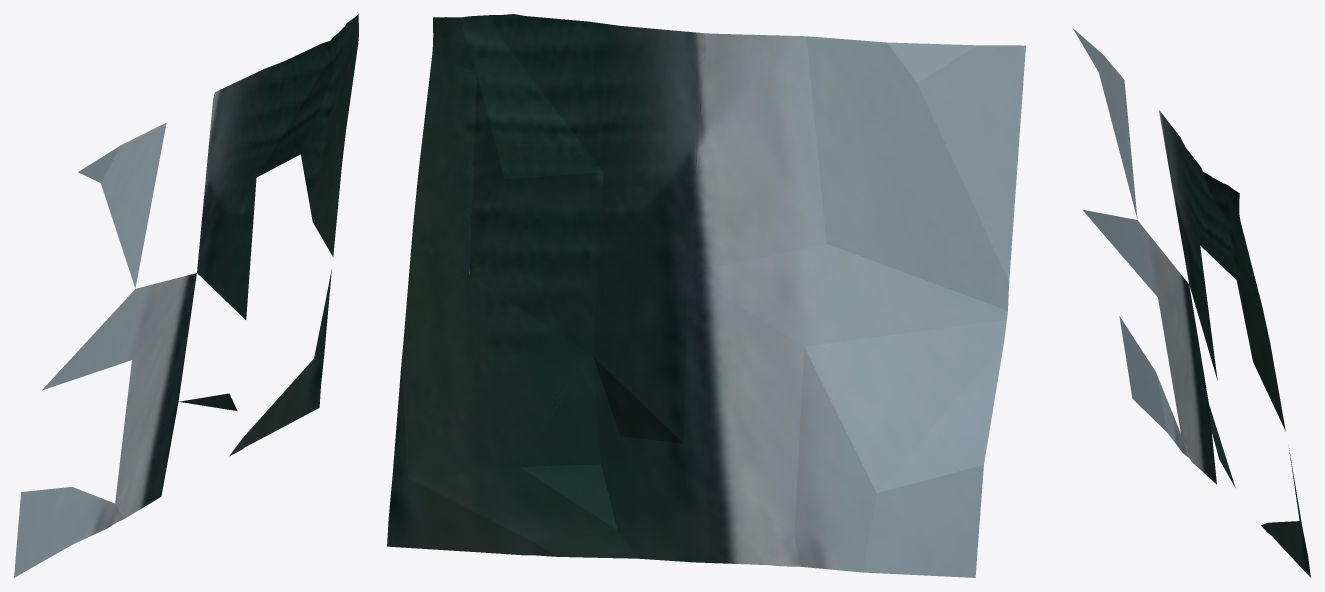
3 renders of one model, left to right at view 1: azimuth 30°, elevation 25°; view 2: azimuth 150°, elevation 25°; view 3: azimuth 270°, elevation 25°, orthographic. The views are drawn at different scales.
Size of the model in its own units: 0.8374 by 0.8373 by 0.5066.
3 materials, 3 textured.
